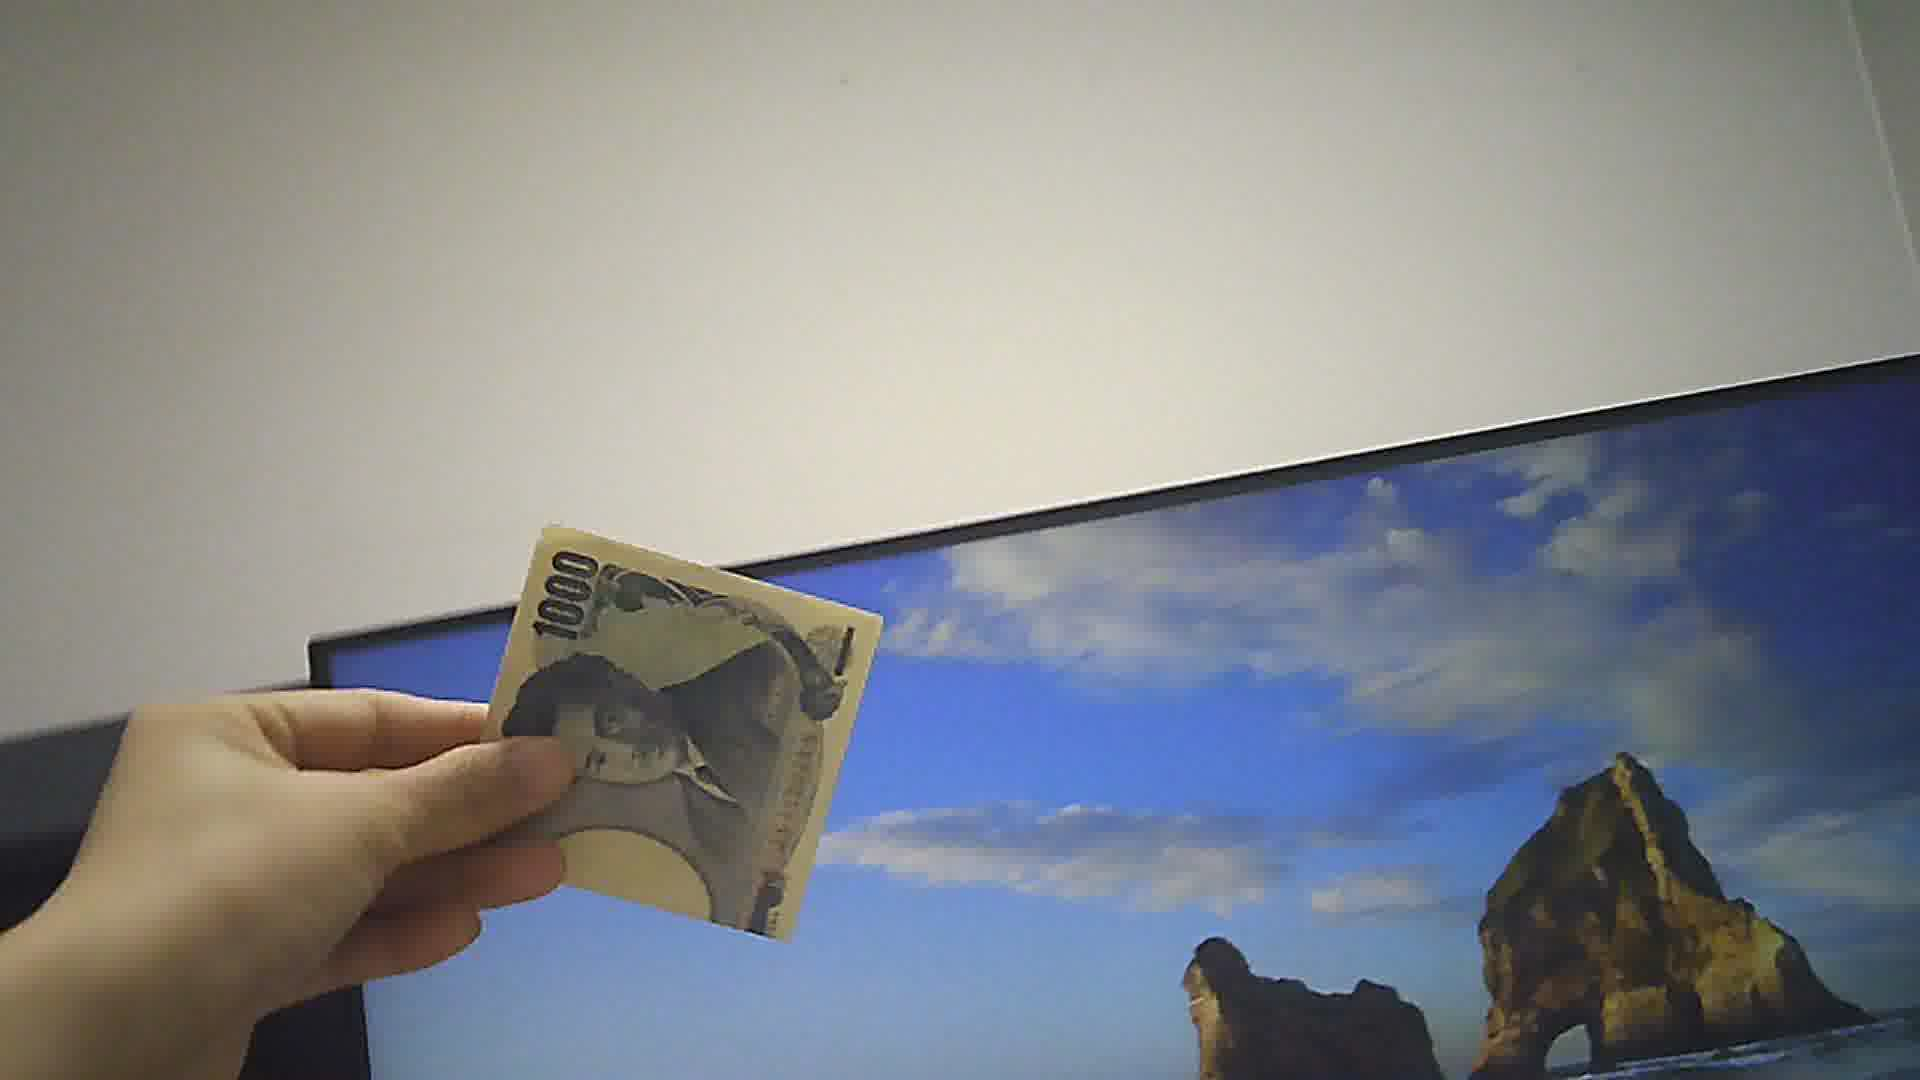1,000 Yen: (442, 512, 880, 957)
